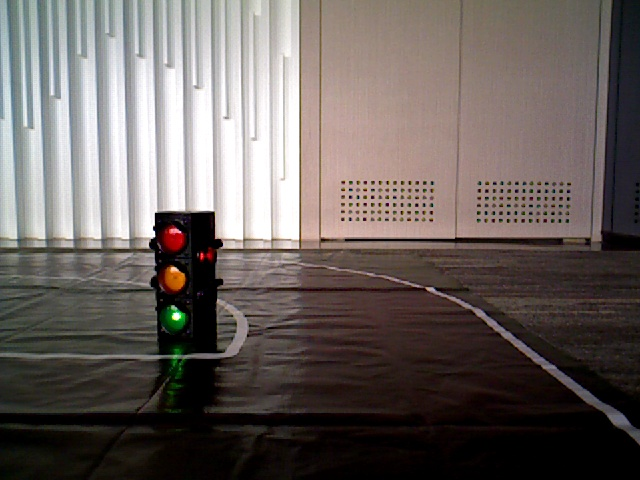green: (156, 214, 195, 340)
